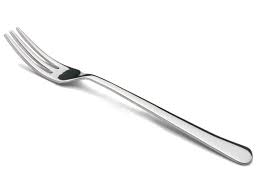fork: (2, 24, 256, 168)
